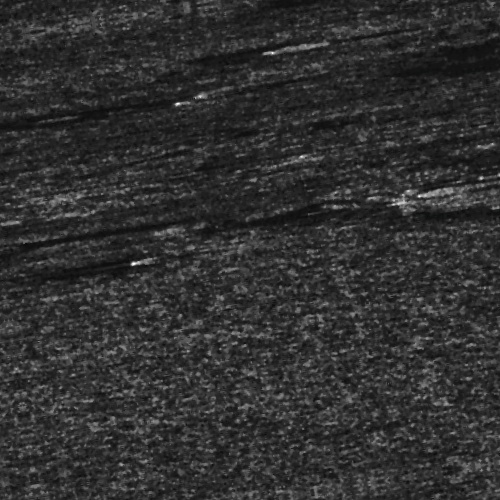object: (392, 213, 500, 226), (211, 79, 242, 92), (303, 52, 356, 57), (119, 240, 172, 243), (0, 201, 14, 212), (488, 242, 500, 245)
shadow: (0, 201, 193, 212), (226, 79, 288, 92), (330, 52, 452, 57), (471, 213, 500, 226), (146, 240, 209, 243)
